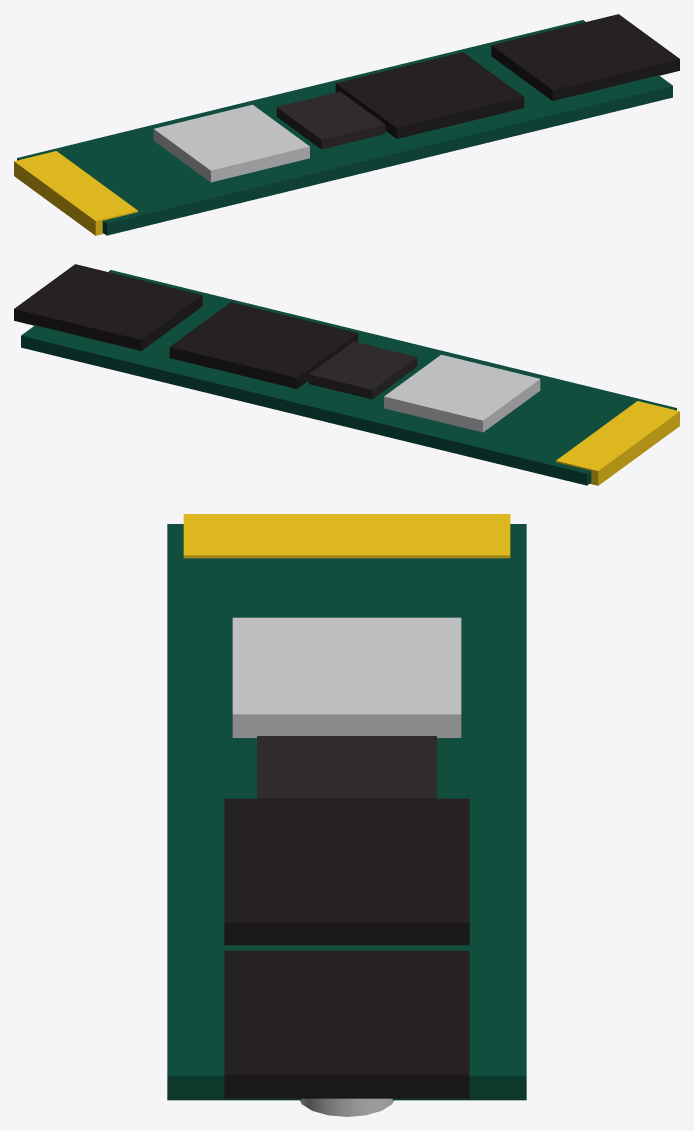
File: storage.glb
The picture shows the model from 3 angles, top to bottom: view 1: azimuth 30°, elevation 25°; view 2: azimuth 150°, elevation 25°; view 3: azimuth 270°, elevation 25°; orthographic projection. The views are drawn at different scales.
Bounding box in the file's own units: 0.084 × 0.0034 × 0.022.
